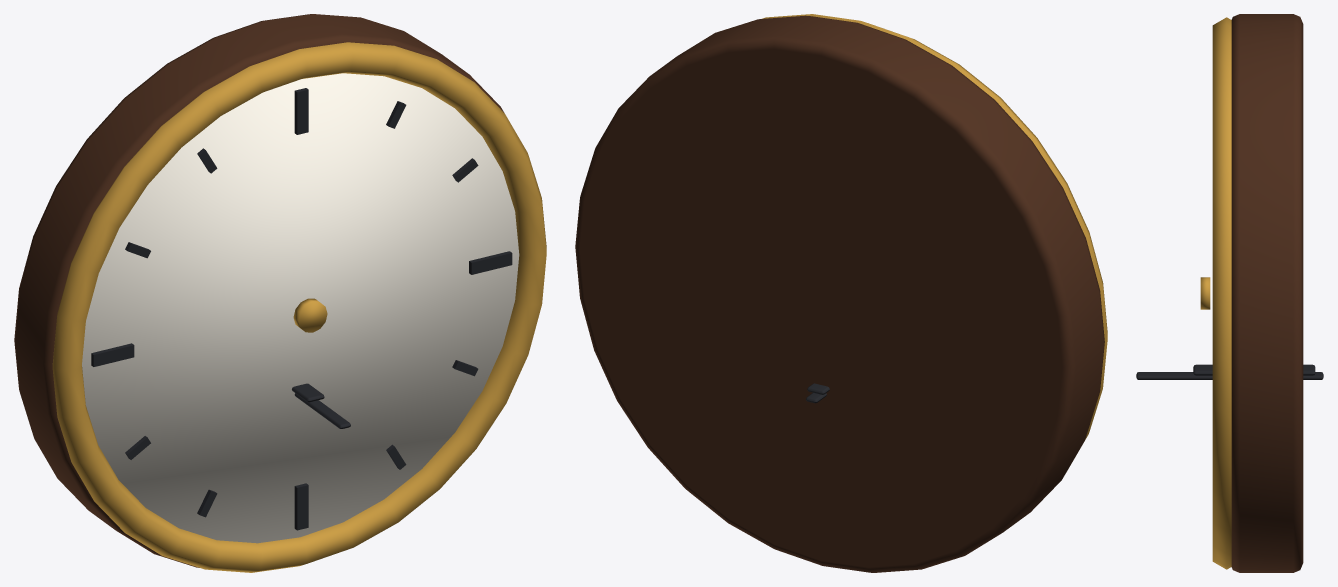
Rendered from RmClock.fbx.
3 renders of one model, left to right at view 1: azimuth 30°, elevation 25°; view 2: azimuth 150°, elevation 25°; view 3: azimuth 270°, elevation 25°, orthographic. The views are drawn at different scales.
Visible parts, largest first — view 1: RmClockBody; view 2: RmClockBody; view 3: RmClockBody, MinuteHandBody, HourHandBody.
Boxes of the visible parts, x1=… form: RmClockBody: x1=14, y1=14, x2=546, y2=572; RmClockBody: x1=575, y1=14, x2=1107, y2=572; RmClockBody: x1=1200, y1=14, x2=1303, y2=572; MinuteHandBody: x1=1136, y1=372, x2=1323, y2=379; HourHandBody: x1=1193, y1=364, x2=1315, y2=375.
Bounding box in the file's own units: 0.344 × 0.344 × 0.115.
